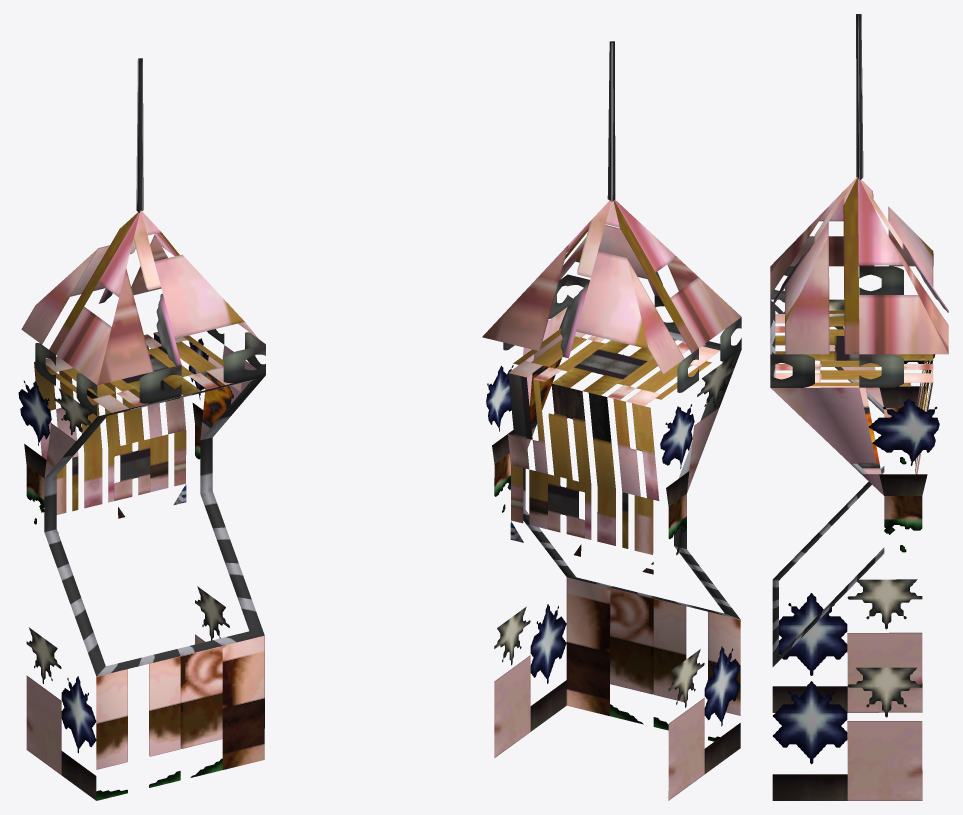
The picture shows the model from 3 angles, left to right: view 1: azimuth 30°, elevation 25°; view 2: azimuth 150°, elevation 25°; view 3: azimuth 270°, elevation 25°; orthographic projection. The views are drawn at different scales.
Visible parts, largest first — view 1: T1L9M004_13; view 2: T1L9M004_13; view 3: T1L9M004_13.
Part boxes in pixels (box(x1,y1,x2,y2)): T1L9M004_13: box(18, 58, 265, 800); T1L9M004_13: box(482, 41, 741, 800); T1L9M004_13: box(770, 14, 948, 800).
Bounding box in the file's own units: 4.08 × 8.95 × 1.95.
